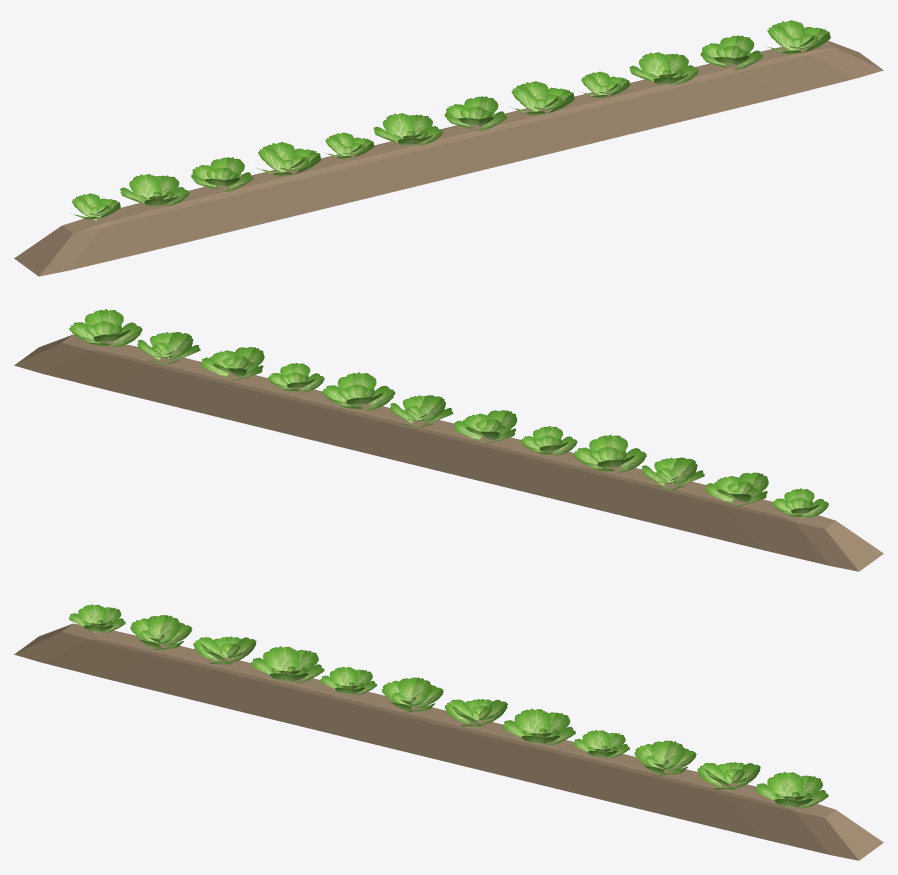
Rendered from bapcai.fbx.
3 renders of one model, top to bottom at view 1: azimuth 30°, elevation 25°; view 2: azimuth 150°, elevation 25°; view 3: azimuth 330°, elevation 25°, orthographic.
Parts seen in each view (by area): view 1: Cube, Plane.012; view 2: Cube, Plane.012; view 3: Cube, Plane.012.
Part boxes in pixels (x1=…): Cube: x1=14, y1=40, x2=883, y2=276; Plane.012: x1=71, y1=20, x2=830, y2=220; Cube: x1=14, y1=334, x2=883, y2=571; Plane.012: x1=69, y1=309, x2=828, y2=518; Cube: x1=14, y1=623, x2=883, y2=860; Plane.012: x1=69, y1=604, x2=828, y2=808.
Size of the model in its own units: 4289 by 275 by 384.
2 materials, 2 textured.
